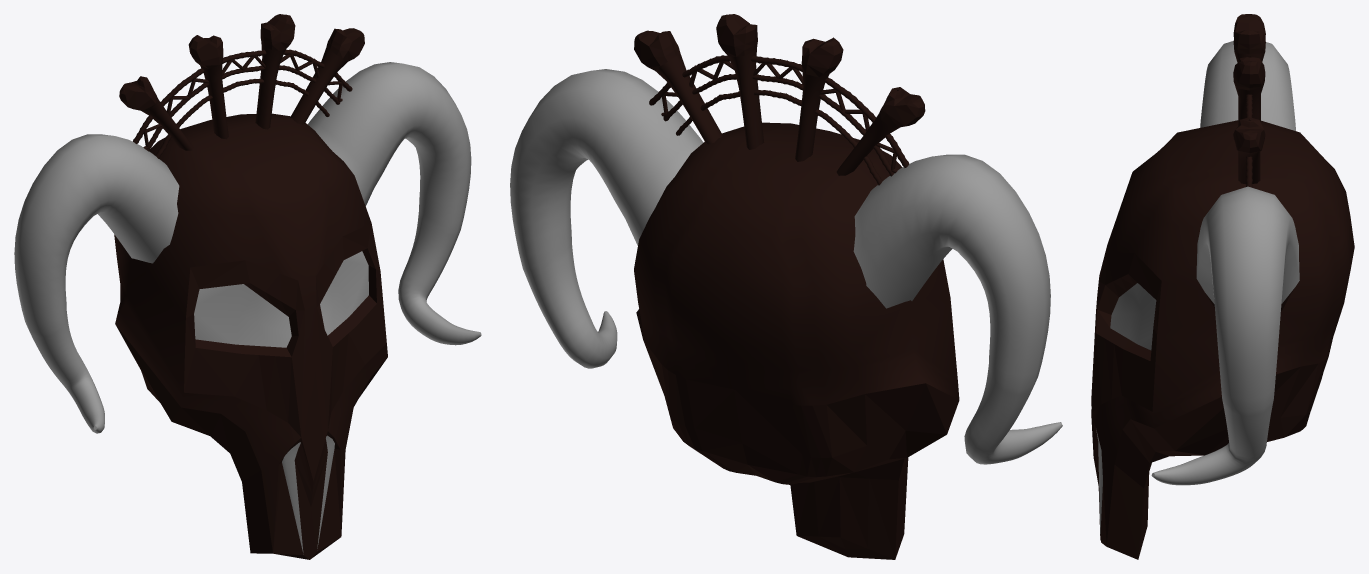
Rendered from mage_mask_lvl3.FBX.
3 views of the same model, side by side, from view 1: azimuth 30°, elevation 25°; view 2: azimuth 150°, elevation 25°; view 3: azimuth 270°, elevation 25° (orthographic). The views are drawn at different scales.
Visible parts, largest first — view 1: Object003; view 2: Object003; view 3: Object003.
Part boxes in pixels (bbox=[...]): Object003: bbox=[14, 14, 481, 559]; Object003: bbox=[510, 14, 1062, 559]; Object003: bbox=[1091, 14, 1354, 559].
Bounding box in the file's own units: 62.86 × 65.42 × 30.59.
